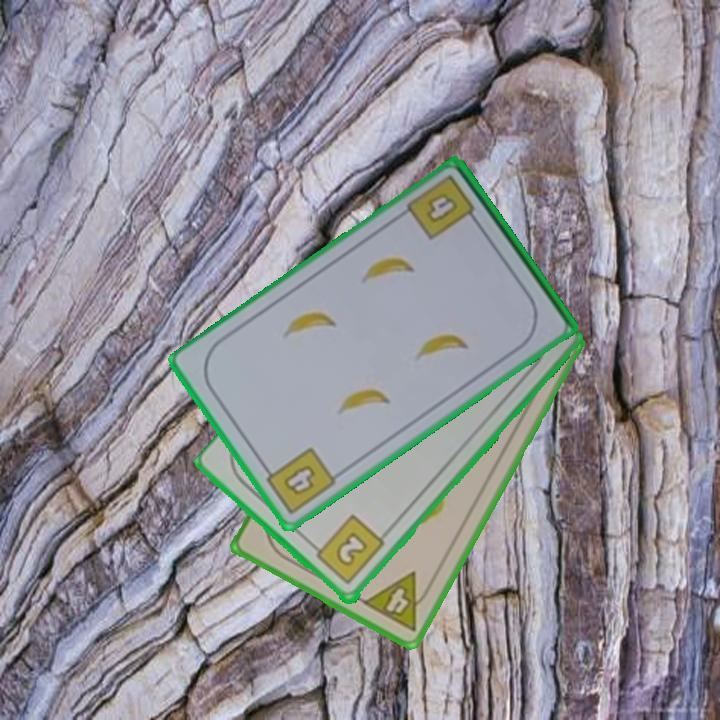2b: (307, 512, 388, 588)
4b: (258, 444, 339, 518), (403, 171, 483, 244)
4p: (359, 568, 437, 635)
